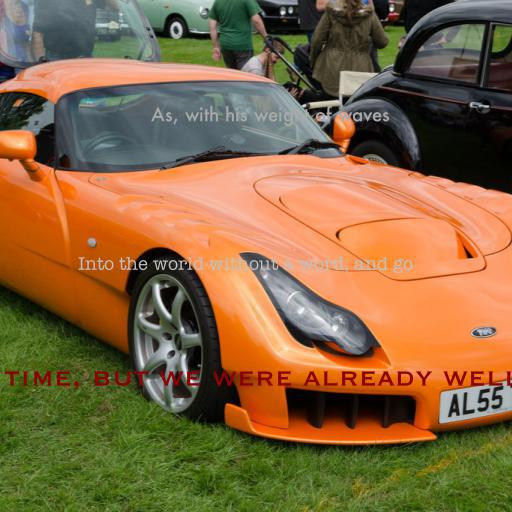American Typewriter: (77, 257, 413, 274)
Copperplate: (0, 370, 512, 391)
Futura: (150, 105, 390, 127)
